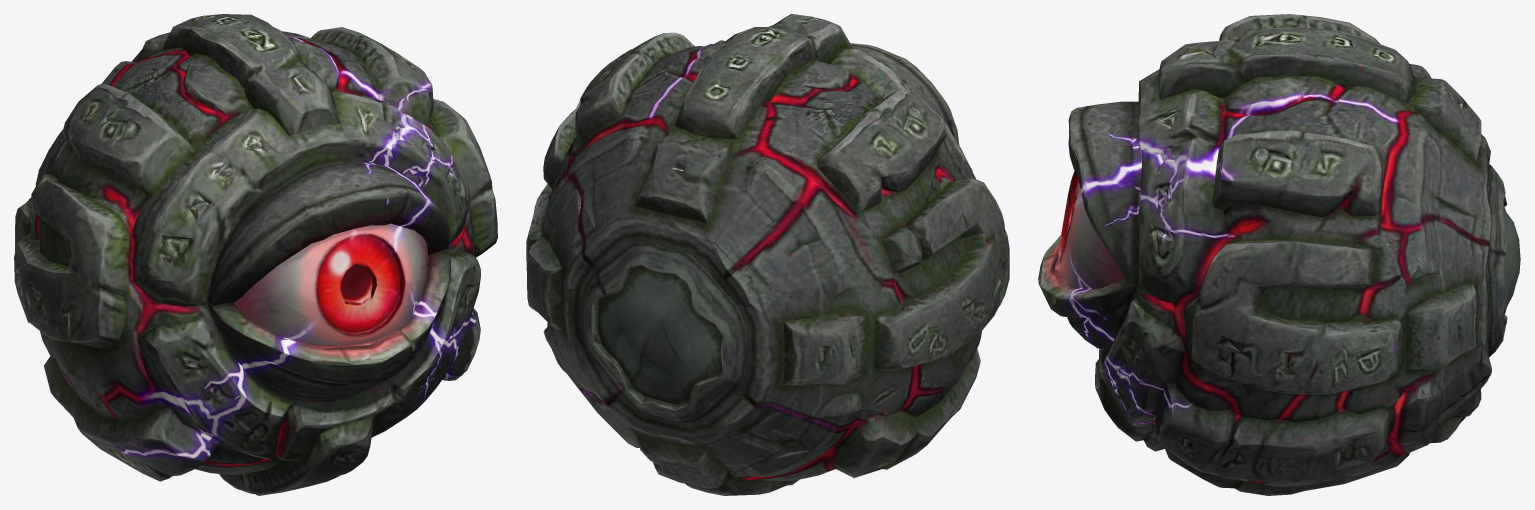
Rendered from sentinel.glb.
The picture shows the model from 3 angles, left to right: view 1: azimuth 30°, elevation 25°; view 2: azimuth 150°, elevation 25°; view 3: azimuth 270°, elevation 25°; orthographic projection.
Visible parts, largest first — view 1: Mesh_0; view 2: Mesh_0; view 3: Mesh_0.
Part boxes in pixels (left/top/right/bottom): Mesh_0: left=14, top=14, right=497, bottom=495; Mesh_0: left=526, top=14, right=1009, bottom=495; Mesh_0: left=1038, top=14, right=1520, bottom=495.
Size of the model in its own units: 1.9 by 1.88 by 1.84.
Materials: 1 (1 with a texture image).
